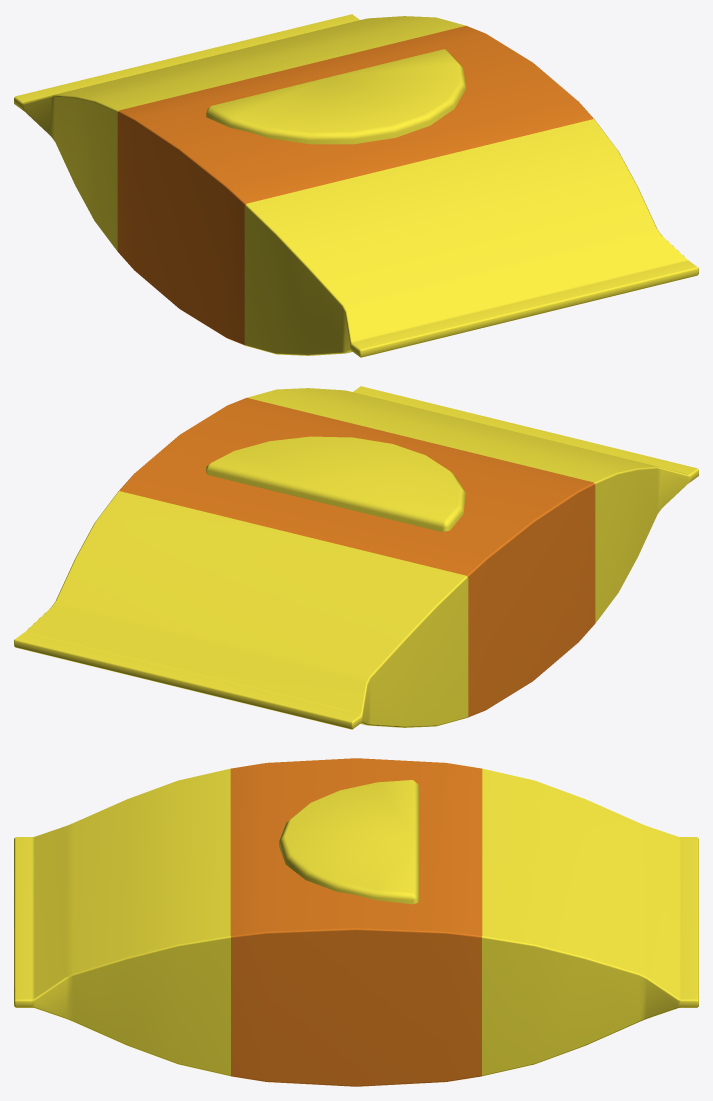
Rendered from Chips_1.fbx.
The picture shows the model from 3 angles, top to bottom: view 1: azimuth 30°, elevation 25°; view 2: azimuth 150°, elevation 25°; view 3: azimuth 270°, elevation 25°; orthographic projection.
Parts seen in each view (by area): view 1: Chips_1; view 2: Chips_1; view 3: Chips_1.
Boxes of the visible parts, bbox=[...] form: Chips_1: bbox=[14, 14, 698, 357]; Chips_1: bbox=[14, 386, 698, 729]; Chips_1: bbox=[14, 758, 698, 1086].
Bounding box in the file's own units: 21.95 × 9.91 × 37.08.
